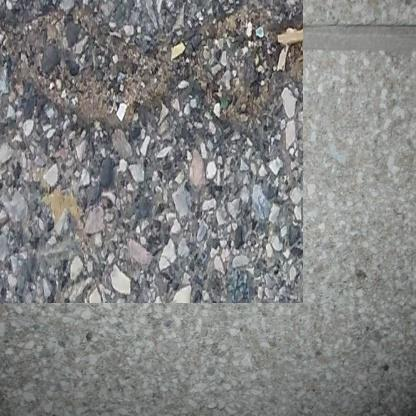Cracks: (0, 0, 280, 124)
